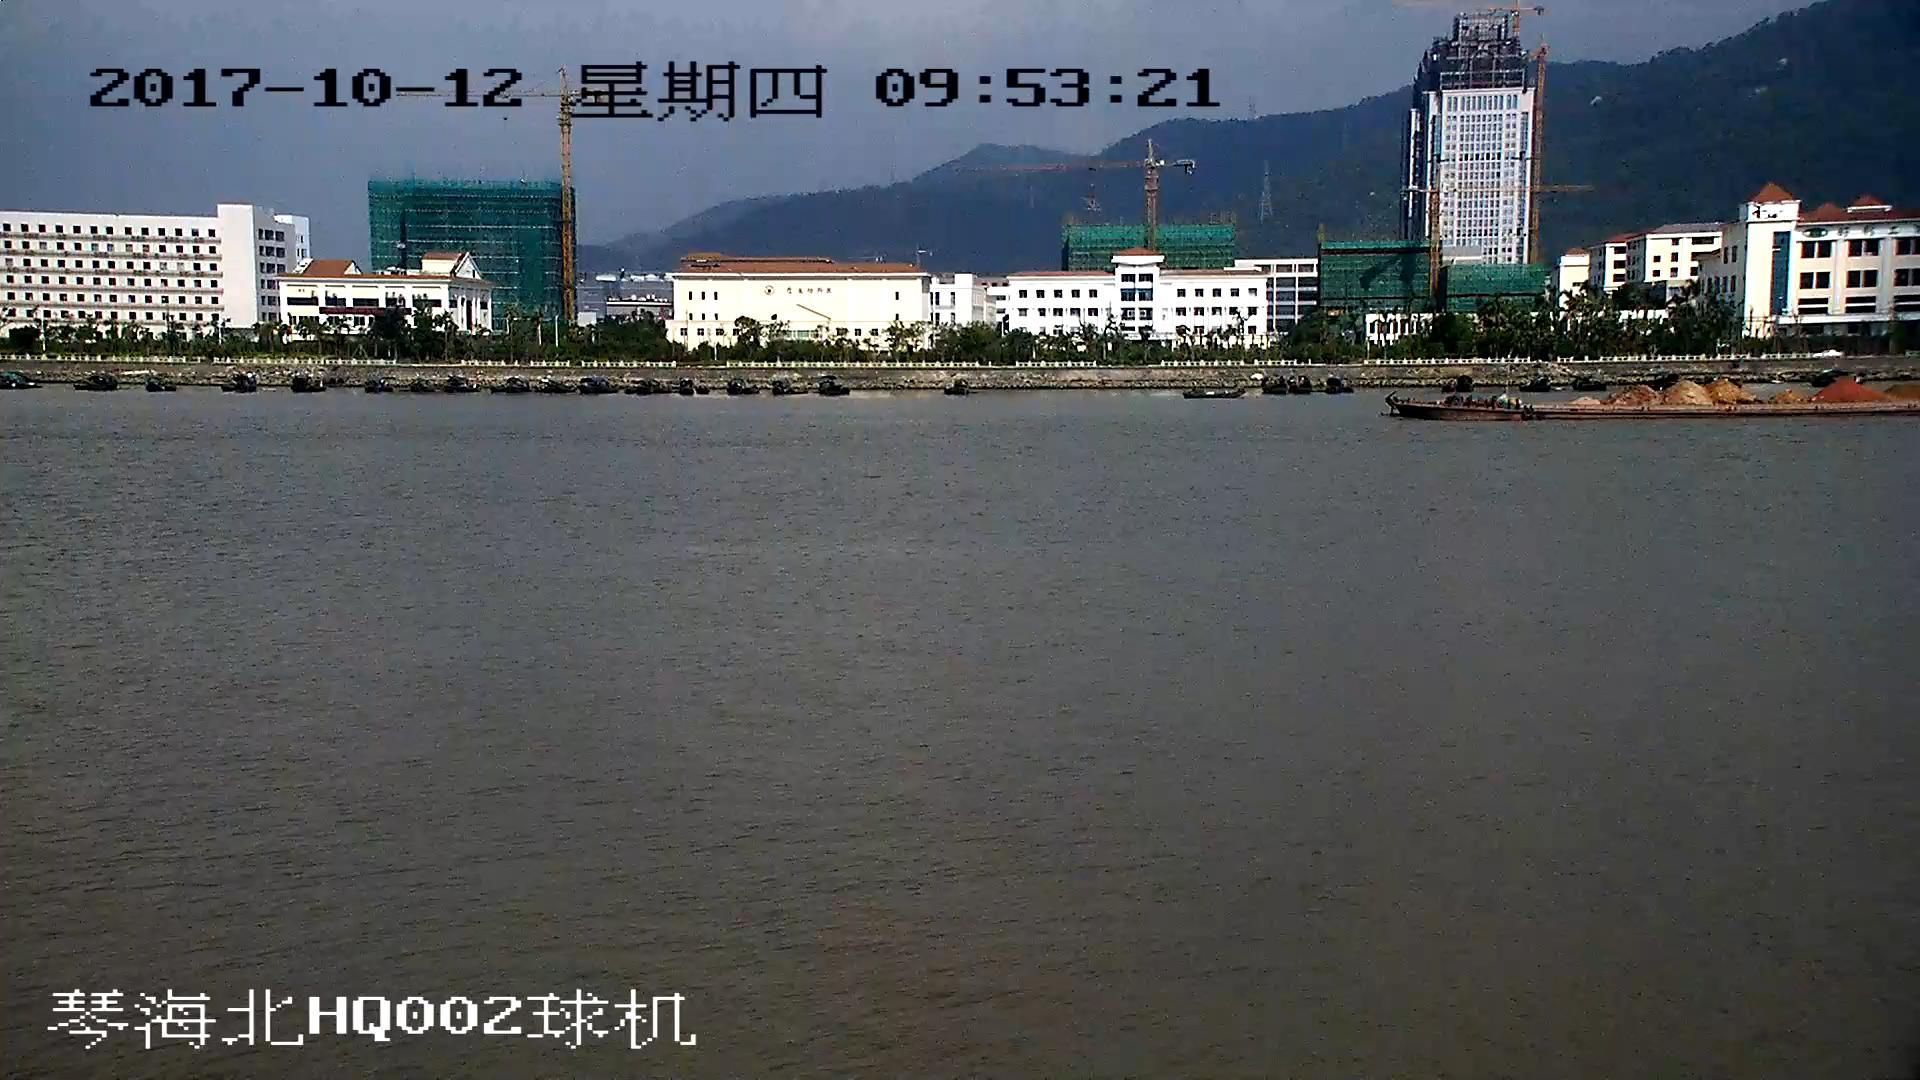ore carrier: (1390, 372, 1920, 424)
